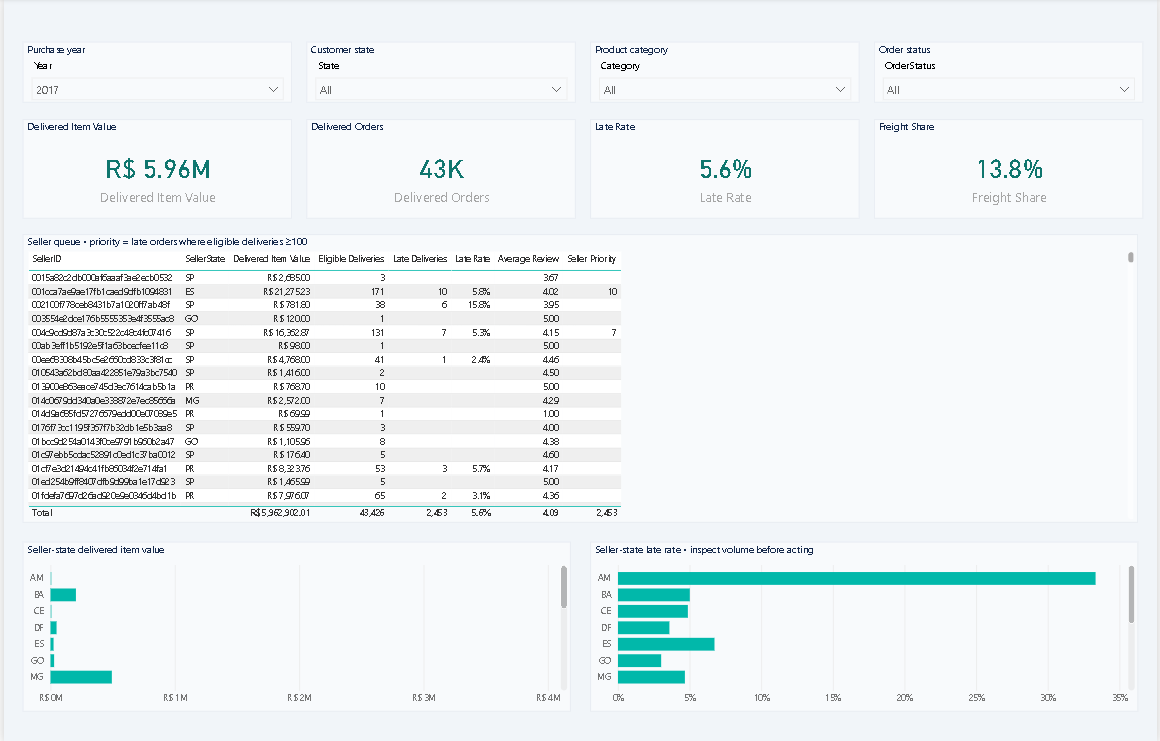

The page's visual inventory and layout, read from the dashboard file:
{"tool":"powerbi","page":{"name":"04 | Seller performance","canvas":[1440,900],"ordinal":3},"visuals":[{"type":"slicer","title":"Purchase year","fields":{"Values":["Calendar.Year"]},"box":[24,24,336,76],"z":24},{"type":"slicer","title":"Customer state","fields":{"Values":["Customers.State"]},"box":[378,24,336,76],"z":24},{"type":"slicer","title":"Product category","fields":{"Values":["Products.Category"]},"box":[732,24,336,76],"z":24},{"type":"slicer","title":"Order status","fields":{"Values":["Orders.OrderStatus"]},"box":[1086,24,336,76],"z":24},{"type":"card","title":"Delivered Item Value","fields":{"Values":["Orders.Delivered Item Value"]},"box":[24,120,336,124],"z":120},{"type":"card","title":"Delivered Orders","fields":{"Values":["Orders.Delivered Orders"]},"box":[378,120,336,124],"z":120},{"type":"card","title":"Late Rate","fields":{"Values":["Orders.Late Rate"]},"box":[732,120,336,124],"z":120},{"type":"card","title":"Freight Share","fields":{"Values":["Orders.Freight Share"]},"box":[1086,120,336,124],"z":120},{"type":"tableEx","title":"Seller queue • priority = late orders where eligible deliveries ≥100","fields":{"Values":["Sellers.SellerID","Sellers.SellerState","Orders.Delivered Item Value","Orders.Eligible Deliveries","Orders.Late Deliveries","Orders.Late Rate","Orders.Average Review","Orders.Seller Priority"]},"box":[24,264,1392,360],"z":264},{"type":"barChart","title":"Seller-state delivered item value","fields":{"Category":["Sellers.SellerState"],"Y":["Orders.Delivered Item Value"]},"box":[24,648,684,212],"z":648},{"type":"barChart","title":"Seller-state late rate • inspect volume before acting","fields":{"Category":["Sellers.SellerState"],"Y":["Orders.Late Rate"]},"box":[732,648,684,212],"z":648}]}

Visuals, with their boxes in screenshot pixels (x1, y1, x2, y2), scaled from the page's 1440x900 canvas onto the 1160x741 screenshot:
"Purchase year" slicer: 19, 20, 290, 82
"Customer state" slicer: 304, 20, 575, 82
"Product category" slicer: 590, 20, 860, 82
"Order status" slicer: 875, 20, 1146, 82
"Delivered Item Value" card: 19, 99, 290, 201
"Delivered Orders" card: 304, 99, 575, 201
"Late Rate" card: 590, 99, 860, 201
"Freight Share" card: 875, 99, 1146, 201
"Seller queue • priority = late orders where eligible deliveries ≥100" tableEx: 19, 217, 1141, 514
"Seller-state delivered item value" barChart: 19, 534, 570, 708
"Seller-state late rate • inspect volume before acting" barChart: 590, 534, 1141, 708
